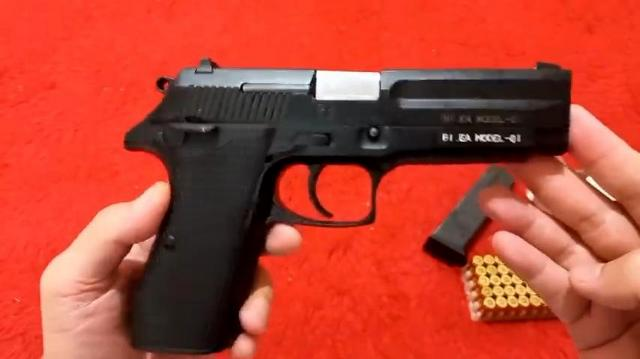pistol: (109, 51, 587, 347)
